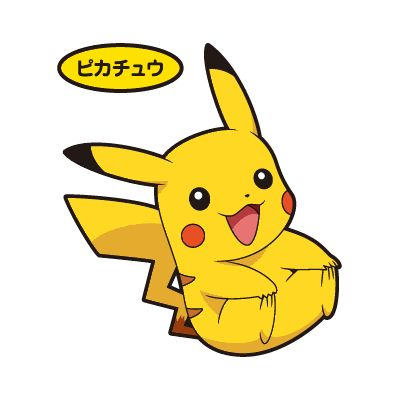Pikachu: (48, 49, 346, 362)
